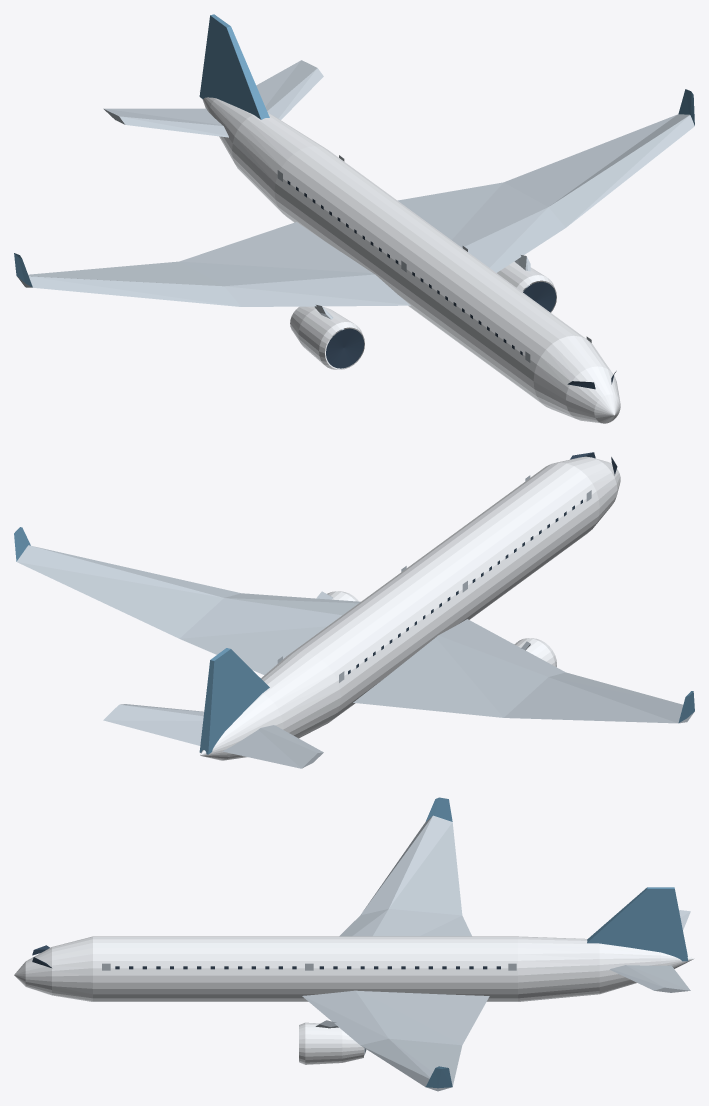
3 renders of one model, top to bottom at view 1: azimuth 30°, elevation 25°; view 2: azimuth 150°, elevation 25°; view 3: azimuth 270°, elevation 25°, orthographic. The views are drawn at different scales.
Size of the model in its own units: 35.5 by 8.4 by 38.
